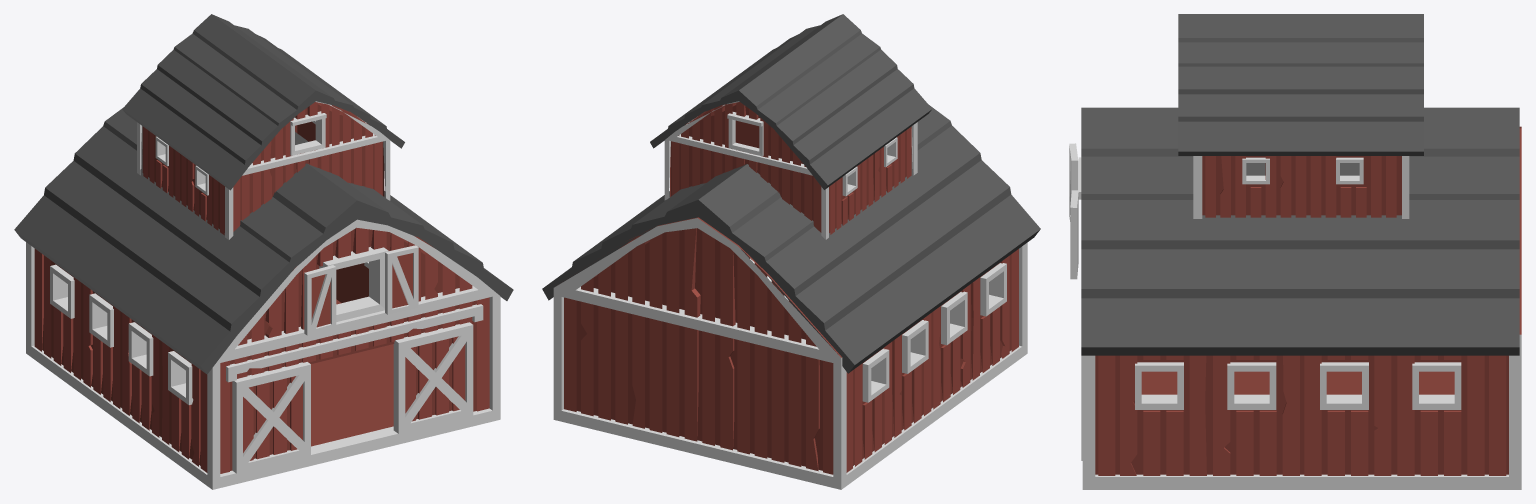
Rendered from bigbarn.glb.
3 views of the same model, side by side, from view 1: azimuth 30°, elevation 25°; view 2: azimuth 150°, elevation 25°; view 3: azimuth 270°, elevation 25° (orthographic). The views are drawn at different scales.
Parts seen in each view (by area): view 1: BigBarn, BigBarn_Door, BigBarn_Door2, BigBarn_Window, BigBarn_Window2; view 2: BigBarn; view 3: BigBarn, BigBarn_Window, BigBarn_Window2.
Part boxes in pixels (x1,y1,x2,y2): BigBarn: (14, 14, 513, 489); BigBarn_Door: (393, 322, 473, 433); BigBarn_Door2: (232, 362, 310, 473); BigBarn_Window: (385, 245, 418, 314); BigBarn_Window2: (304, 265, 336, 335); BigBarn: (542, 14, 1040, 489); BigBarn: (1078, 14, 1521, 489); BigBarn_Window: (1070, 190, 1078, 279); BigBarn_Window2: (1069, 143, 1078, 221).
Bounding box in the file's own units: 7.73 × 7.89 × 8.22.
